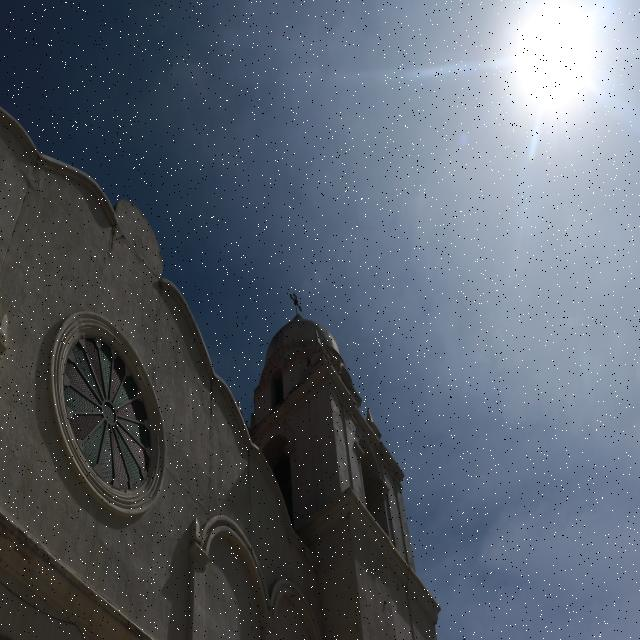CAMPANARIO: (234, 359, 453, 582)
CUPULA: (231, 251, 394, 438)
colonial-architecture-: (0, 32, 485, 640)
